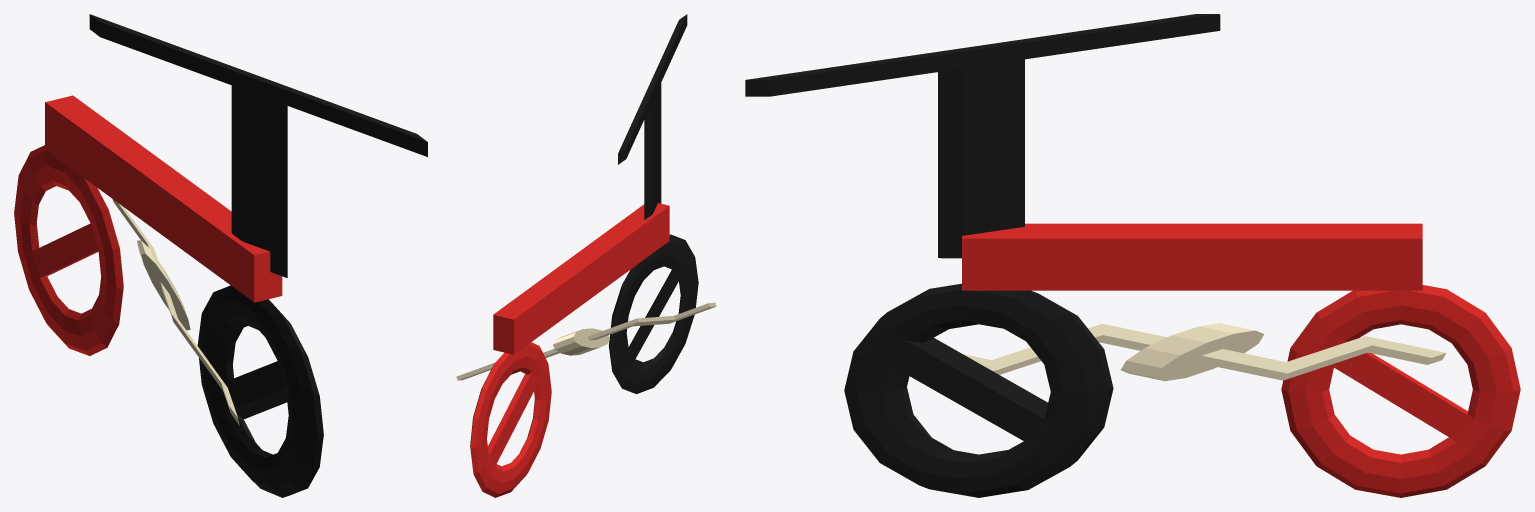
The model's file is testBike2.gltf.
3 views of the same model, side by side, from view 1: azimuth 30°, elevation 25°; view 2: azimuth 150°, elevation 25°; view 3: azimuth 270°, elevation 25° (orthographic). The views are drawn at different scales.
Visible parts, largest first — view 1: 立方体, 环体.001, 立方体.001, 环体, 立方体.002, 柱体; view 2: 立方体, 环体, 环体.001, 立方体.001, 立方体.002, 柱体; view 3: 环体.001, 立方体, 环体, 立方体.001, 立方体.002, 柱体.
Part boxes in pixels (bbox=[...]): 立方体: bbox=[45, 95, 282, 302]; 环体.001: bbox=[197, 285, 323, 497]; 立方体.001: bbox=[89, 14, 427, 277]; 环体: bbox=[14, 145, 123, 355]; 立方体.002: bbox=[112, 199, 239, 425]; 柱体: bbox=[137, 240, 190, 330]; 立方体: bbox=[493, 203, 669, 354]; 环体: bbox=[470, 342, 551, 497]; 环体.001: bbox=[608, 234, 698, 393]; 立方体.001: bbox=[618, 14, 687, 219]; 立方体.002: bbox=[456, 302, 716, 380]; 柱体: bbox=[553, 328, 609, 355]; 环体.001: bbox=[844, 283, 1113, 497]; 立方体: bbox=[962, 223, 1422, 290]; 环体: bbox=[1281, 285, 1520, 497]; 立方体.001: bbox=[745, 14, 1220, 258]; 立方体.002: bbox=[963, 323, 1446, 380]; 柱体: bbox=[1121, 323, 1264, 381].
Size of the model in its own units: 1.37 by 4.37 by 6.81.
